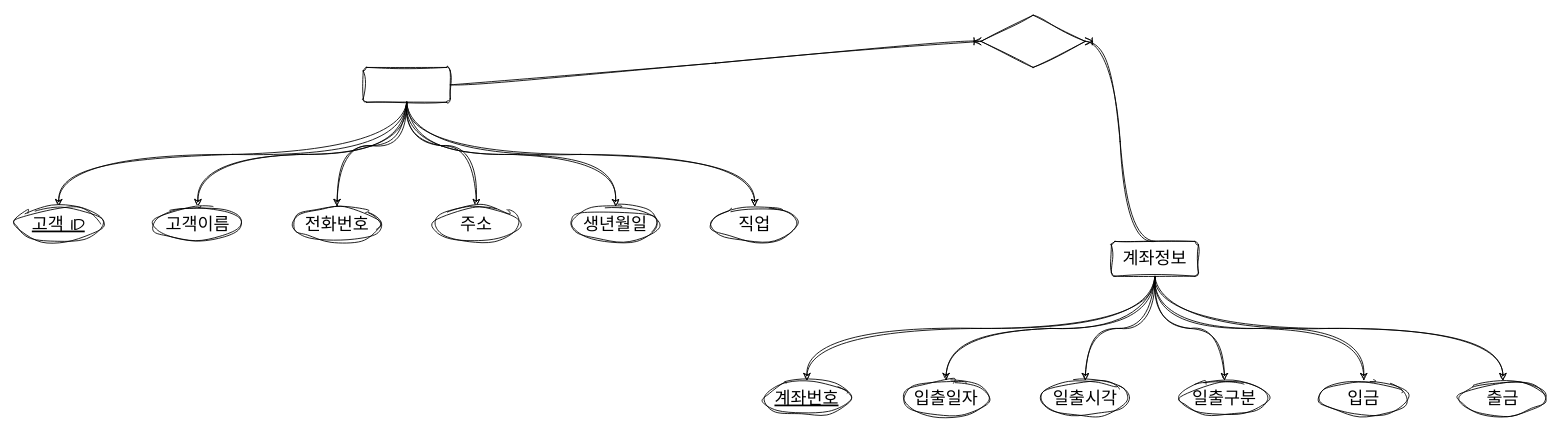
The diagram is 1562 pixels wide and 431 high, and some of its shapes have lost their labels. Here are the shapes that lost their labels. From the top down, the centre of each, then its label:
At pixel 1032 40: "거래내역".
At pixel 406 84: "고객정보".
